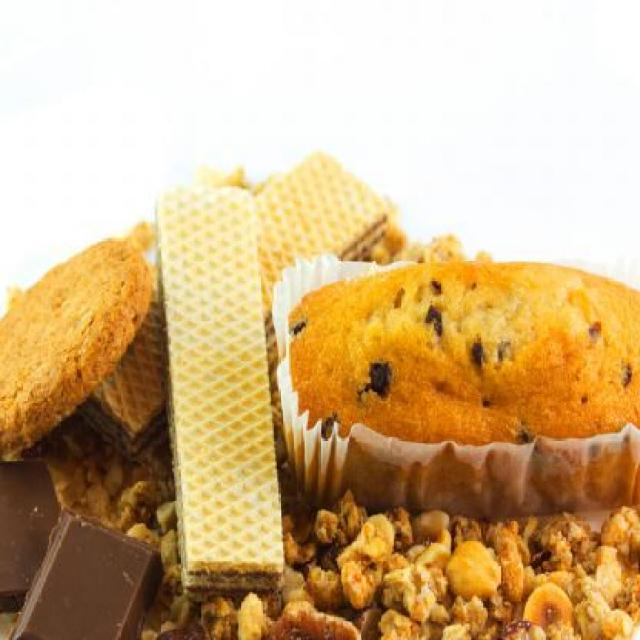Merendine packaged: (273, 257, 639, 494), (147, 186, 284, 580), (18, 514, 162, 640)
